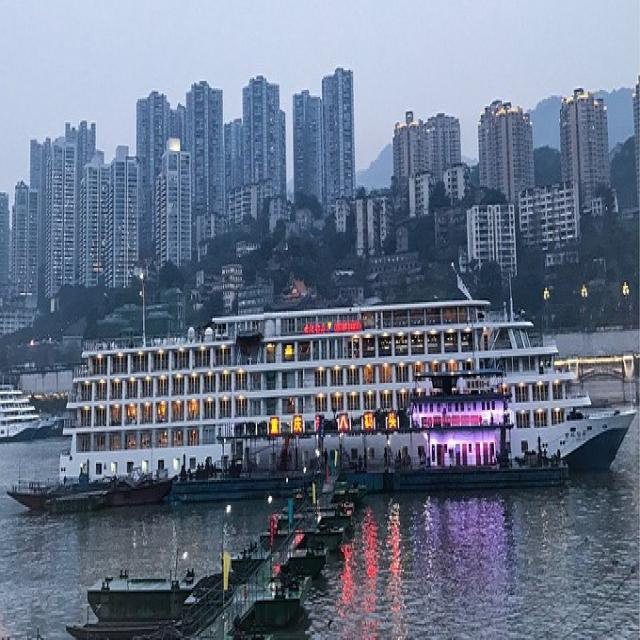passenger ship: (50, 300, 632, 492), (0, 367, 42, 449)
